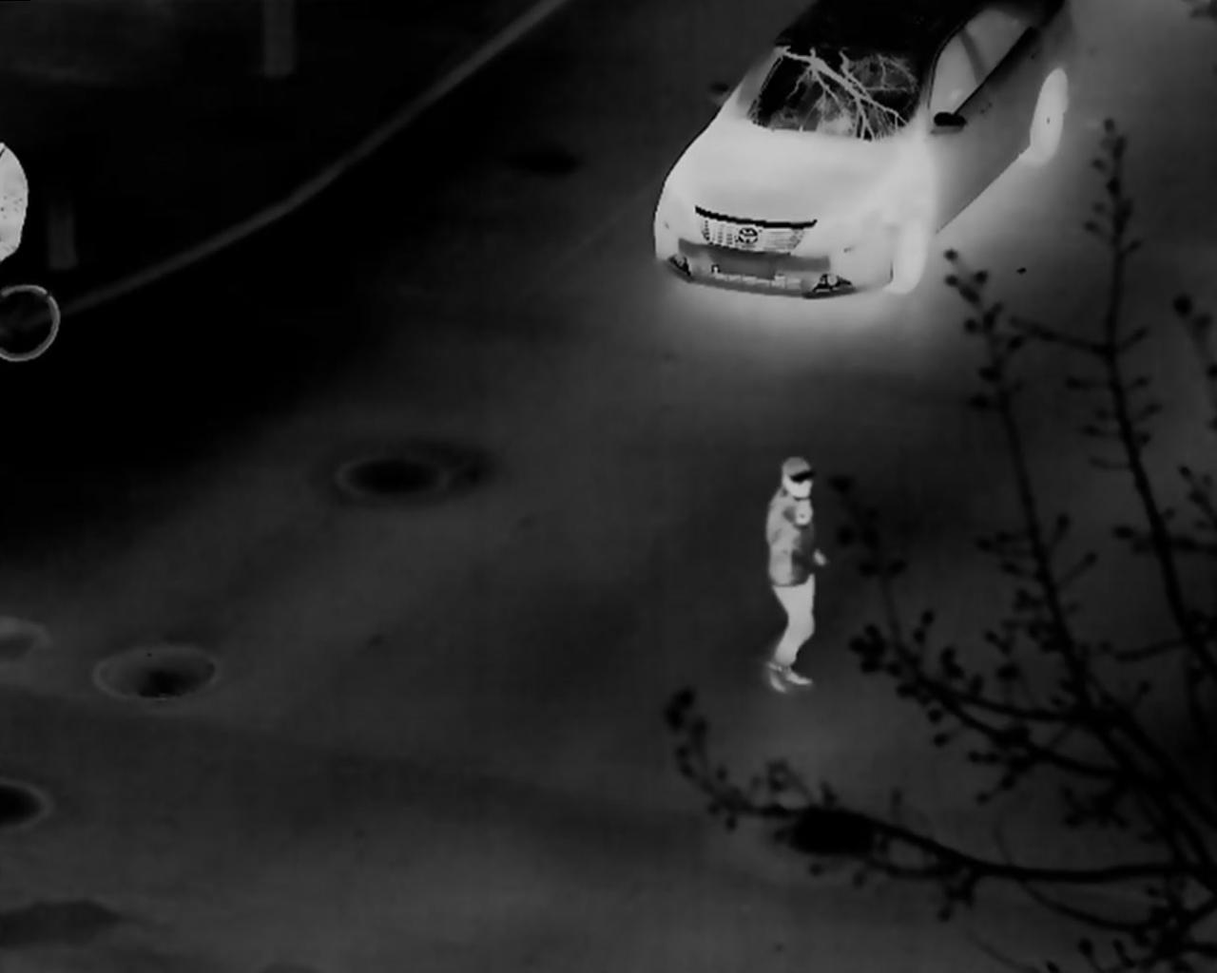person: (764, 455, 830, 696)
